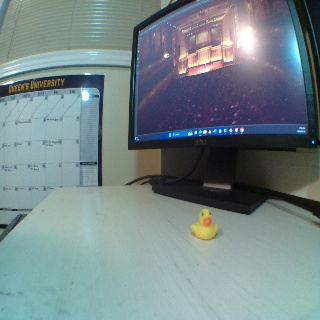duck_regular: (191, 208, 219, 239)
